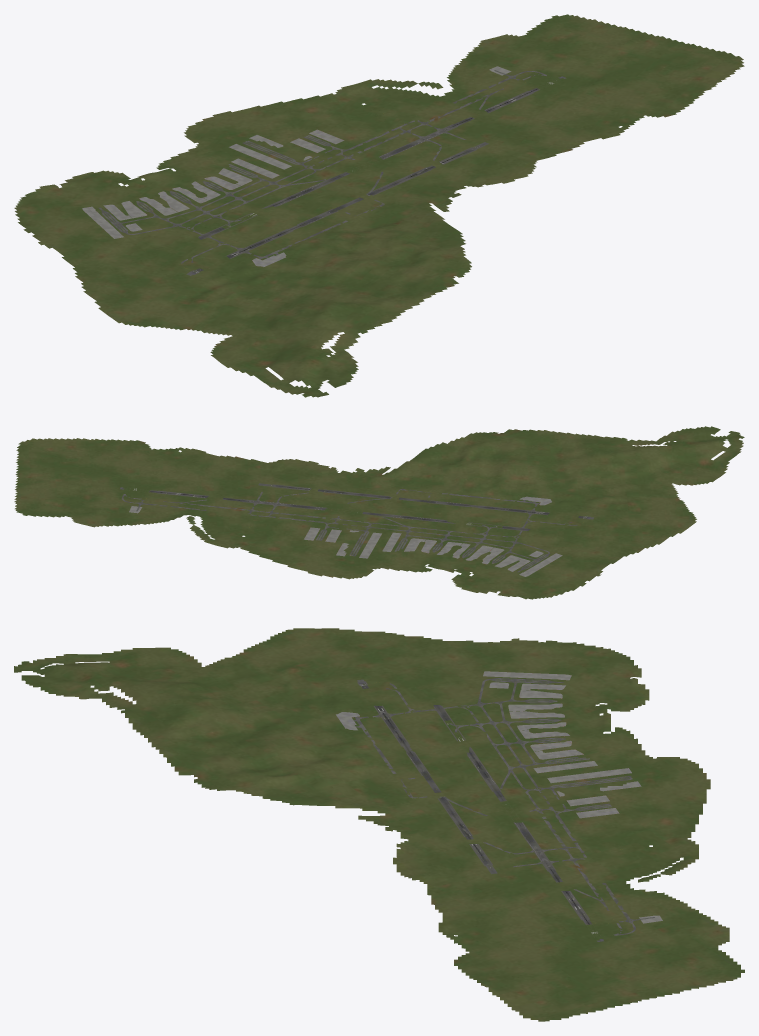
Rendered from sbgr_placa_campo.leve.glb.
3 views of the same model, one above another, from view 1: azimuth 30°, elevation 25°; view 2: azimuth 150°, elevation 25°; view 3: azimuth 270°, elevation 25° (orthographic). The views are drawn at different scales.
Parts seen in each view (by area): view 1: sbgr_placa_campo; view 2: sbgr_placa_campo; view 3: sbgr_placa_campo.
Part boxes in pixels (x1=…): sbgr_placa_campo: x1=14, y1=14, x2=744, y2=397; sbgr_placa_campo: x1=14, y1=426, x2=744, y2=599; sbgr_placa_campo: x1=14, y1=628, x2=744, y2=1021.
Size of the model in its own units: 6125 by 84.12 by 4775.
Materials: 9 (7 with a texture image).
